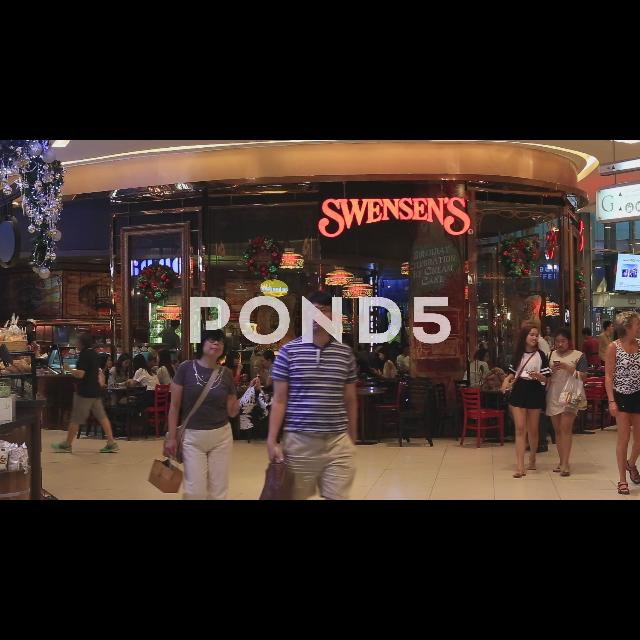head: (305, 290, 337, 332), (197, 324, 227, 358), (520, 324, 540, 348), (554, 328, 572, 352), (75, 332, 93, 352), (261, 350, 275, 370), (156, 349, 170, 366), (132, 354, 146, 371), (119, 354, 133, 371), (144, 354, 158, 370), (98, 354, 114, 368), (228, 350, 240, 368), (478, 349, 490, 363), (378, 348, 389, 362), (604, 321, 614, 334), (582, 328, 592, 340), (25, 321, 35, 333), (171, 320, 181, 330), (404, 344, 412, 354)
person: (48, 331, 122, 455), (500, 324, 554, 480), (538, 327, 588, 481), (253, 346, 294, 446), (206, 348, 247, 442), (460, 346, 500, 442), (125, 354, 161, 440), (87, 353, 117, 437), (14, 318, 42, 406), (153, 348, 180, 439), (108, 353, 134, 435), (368, 346, 398, 414), (138, 350, 162, 428), (394, 342, 420, 410), (596, 319, 616, 401), (158, 316, 182, 384), (580, 327, 602, 397)
